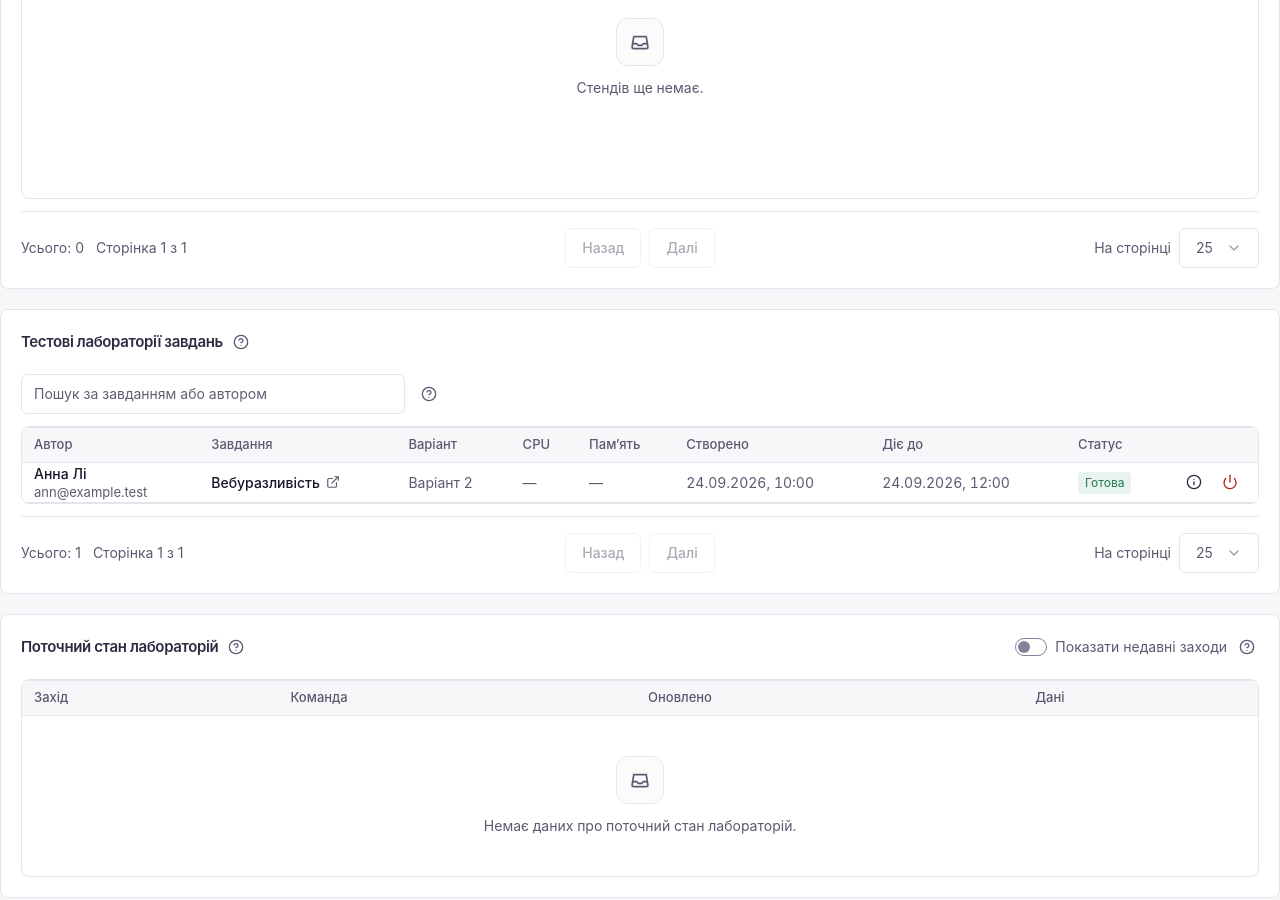
Test: infrastructure page › test labs › ends a lab after a danger confirmation naming the exercise and author
(page scrolled)
Expected: the text "Вебуразливість" is shown, x1=211 y1=472 x2=320 y2=492
Click the button named "Завершити лабораторію" at (1230, 482), box x1=1214 y1=466 x2=1246 y2=498
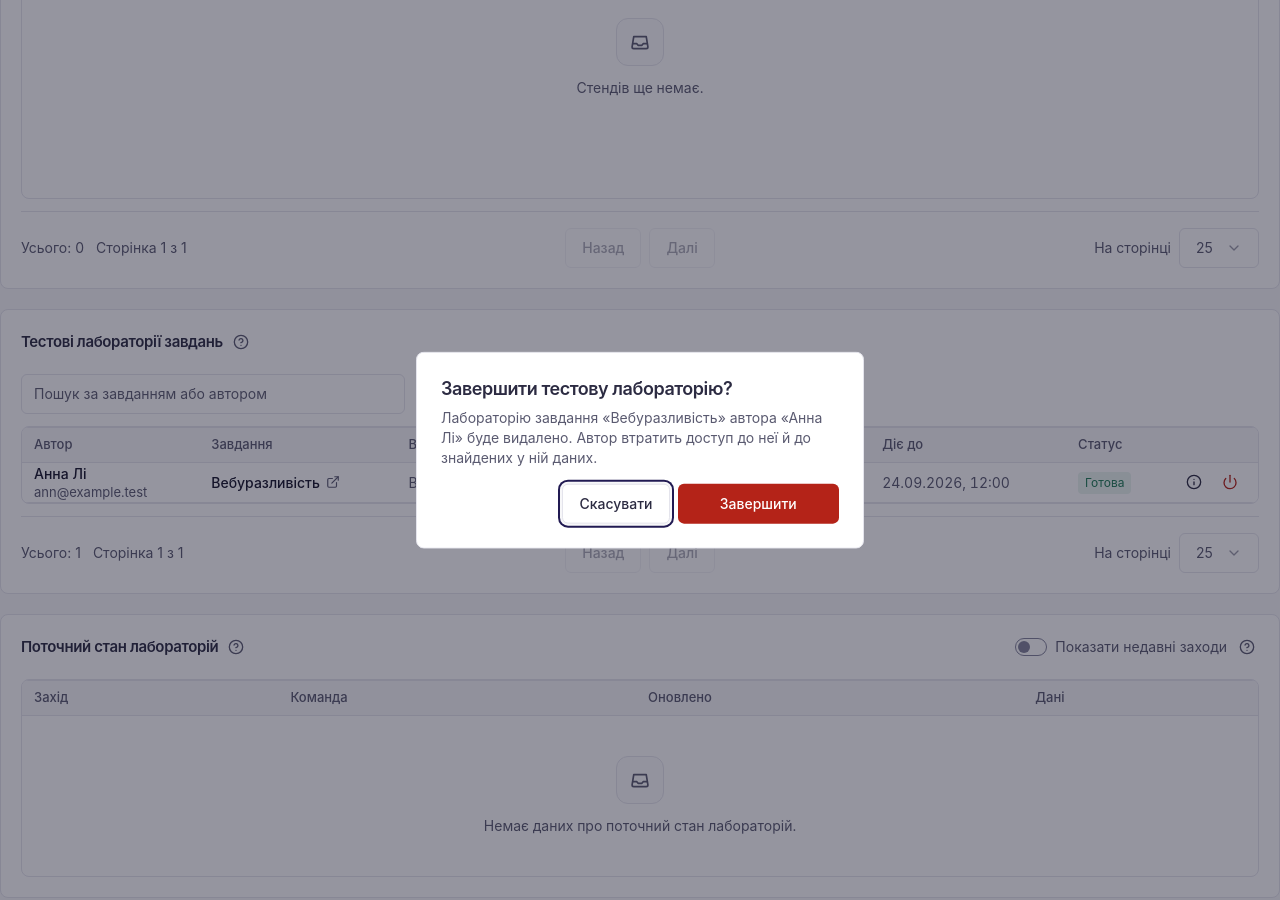
Expected: the dialog shows "«Вебуразливість»", x1=441 y1=408 x2=822 y2=465
Expected: the dialog shows "«Анна Лі»", x1=441 y1=408 x2=822 y2=465
Click the button "Завершити" at (758, 503), box x1=678 y1=483 x2=839 y2=523
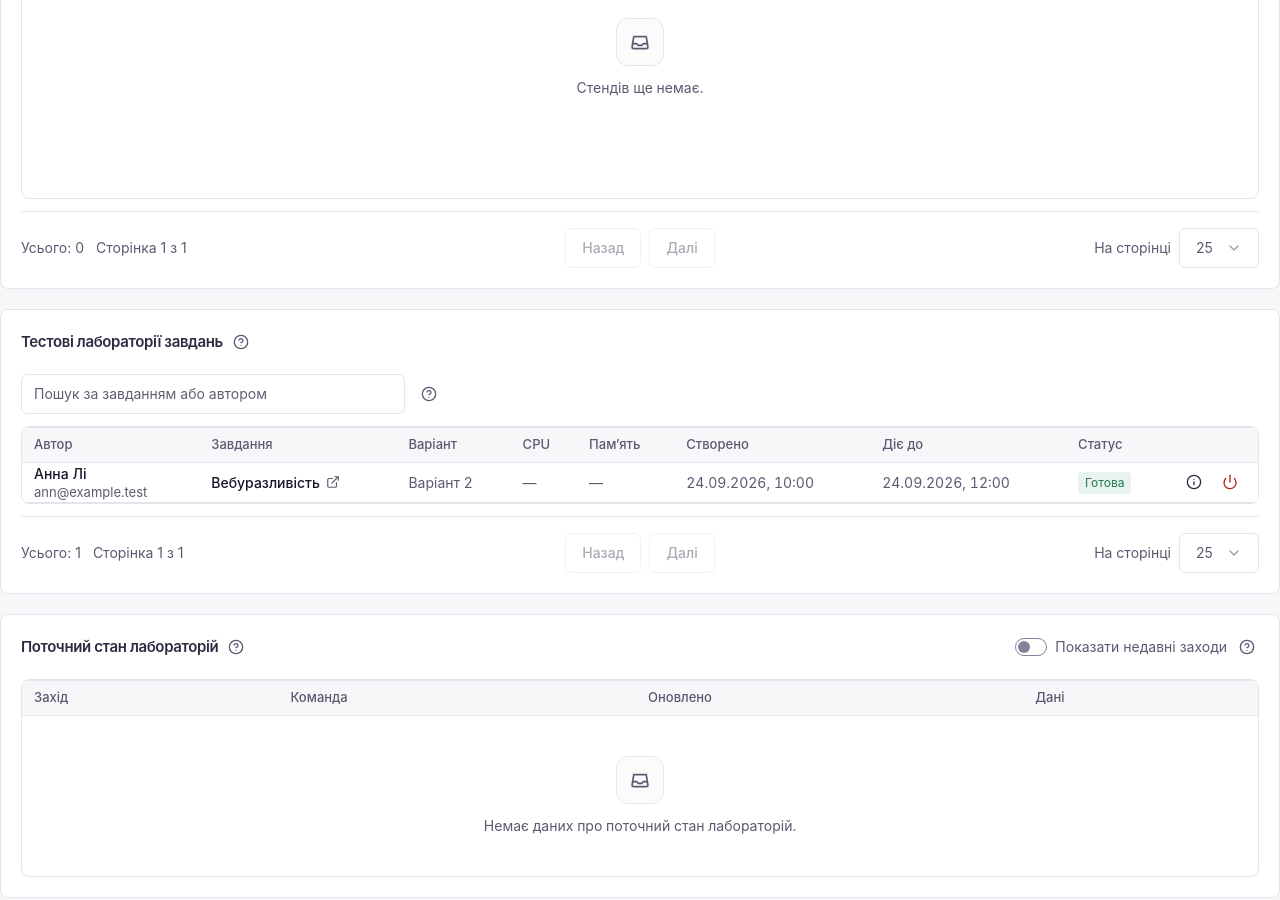
Expected: the dialog is gone
